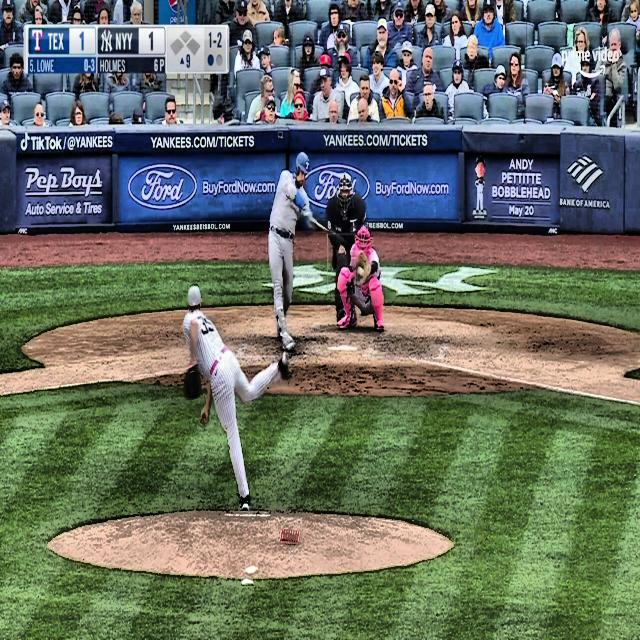baseball: (357, 265, 365, 278)
